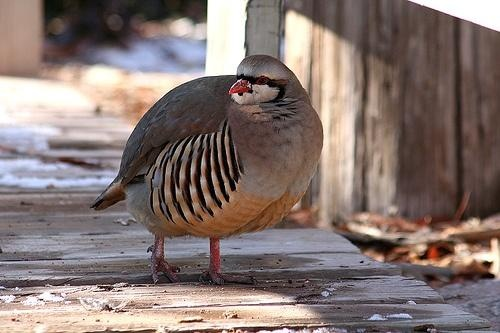bird: (88, 55, 327, 289)
